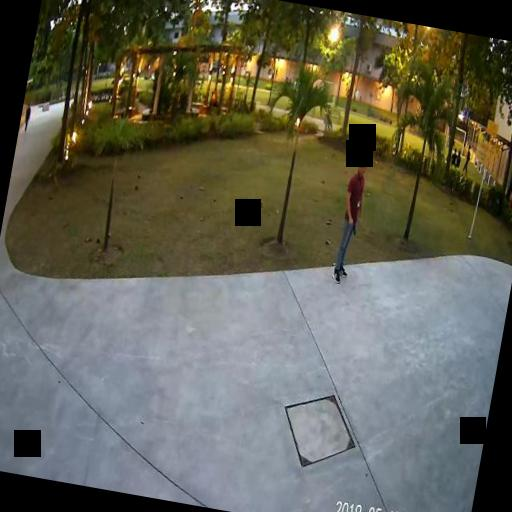Handgun: (346, 216, 356, 234)
